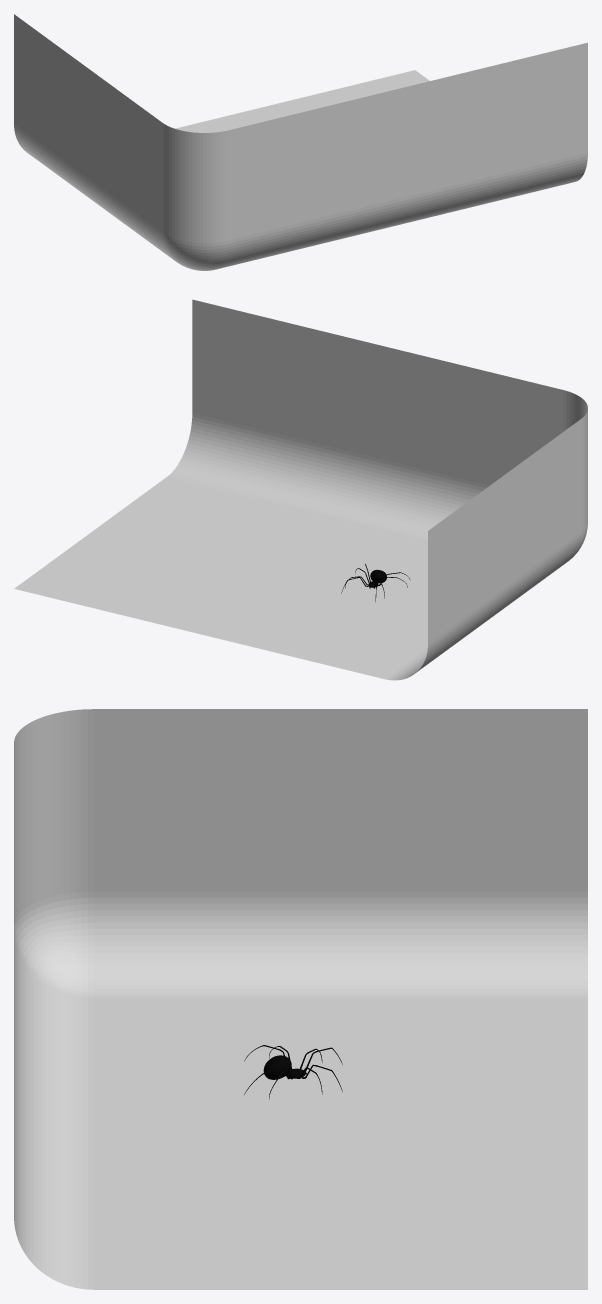
File: uploads_files_2980032_BlackWidowSpider.fbx
3 renders of one model, top to bottom at view 1: azimuth 30°, elevation 25°; view 2: azimuth 150°, elevation 25°; view 3: azimuth 270°, elevation 25°, orthographic. The views are drawn at different scales.
Visible parts, largest first — view 1: Plane; view 2: Plane; view 3: Plane.
Boxes of the visible parts, bbox=[...] form: Plane: bbox=[14, 14, 587, 270]; Plane: bbox=[14, 299, 587, 680]; Plane: bbox=[14, 709, 587, 1289].
Size of the model in its own units: 2021 by 742 by 1508.
